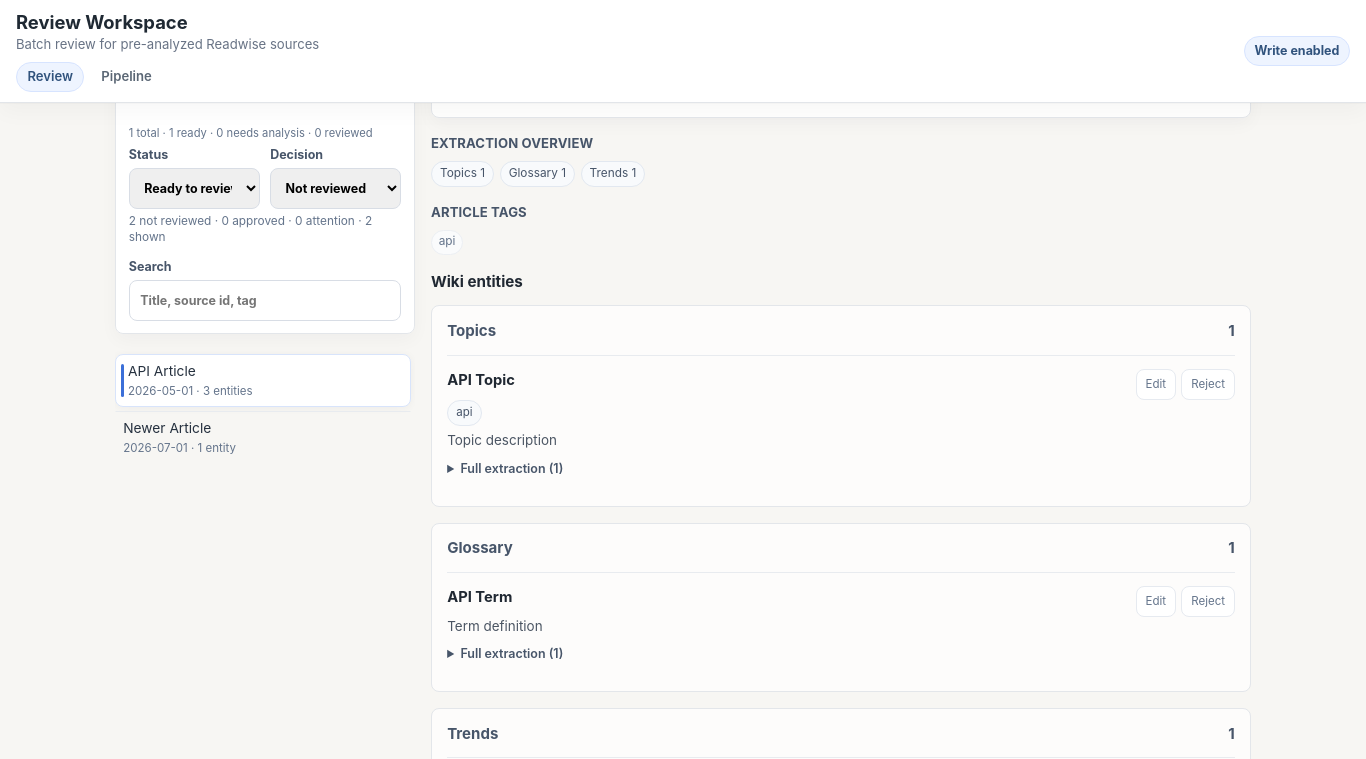
Test case: App › opens one entity editor and cancels without saving
(page scrolled)
Click the button with aria-label "Edit API Topic".
click(1156, 384)  # box [1136,369,1176,400]
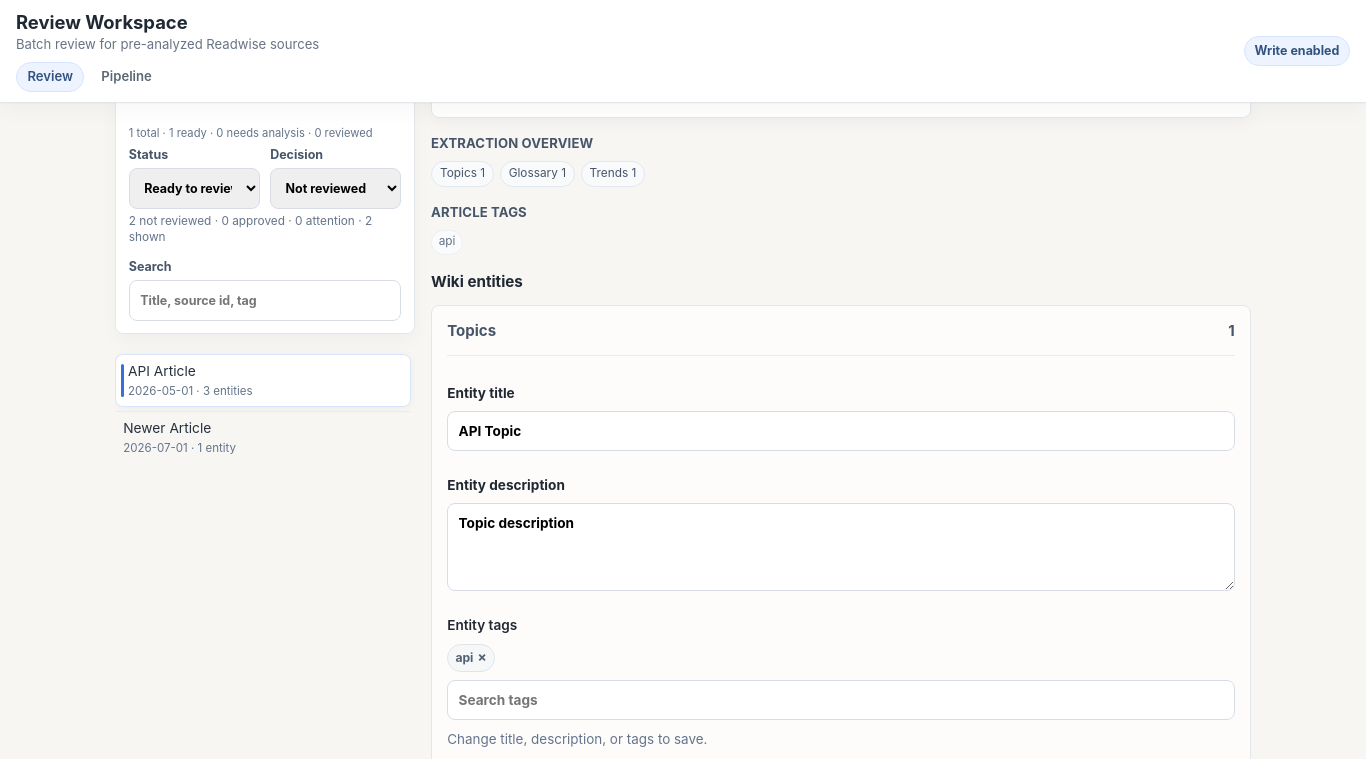
expect the field labelled "Entity title" holds "API Topic": met
expect the text box labelled "Entity description" holds "Topic description": met, box [447,504,1235,592]
expect the button named "Remove api" is shown: met, box [477,651,487,665]
Replace the text in the field labelled "Entity title" with "Draft title" at (841, 431), box [447,411,1235,451]
(page scrolled)
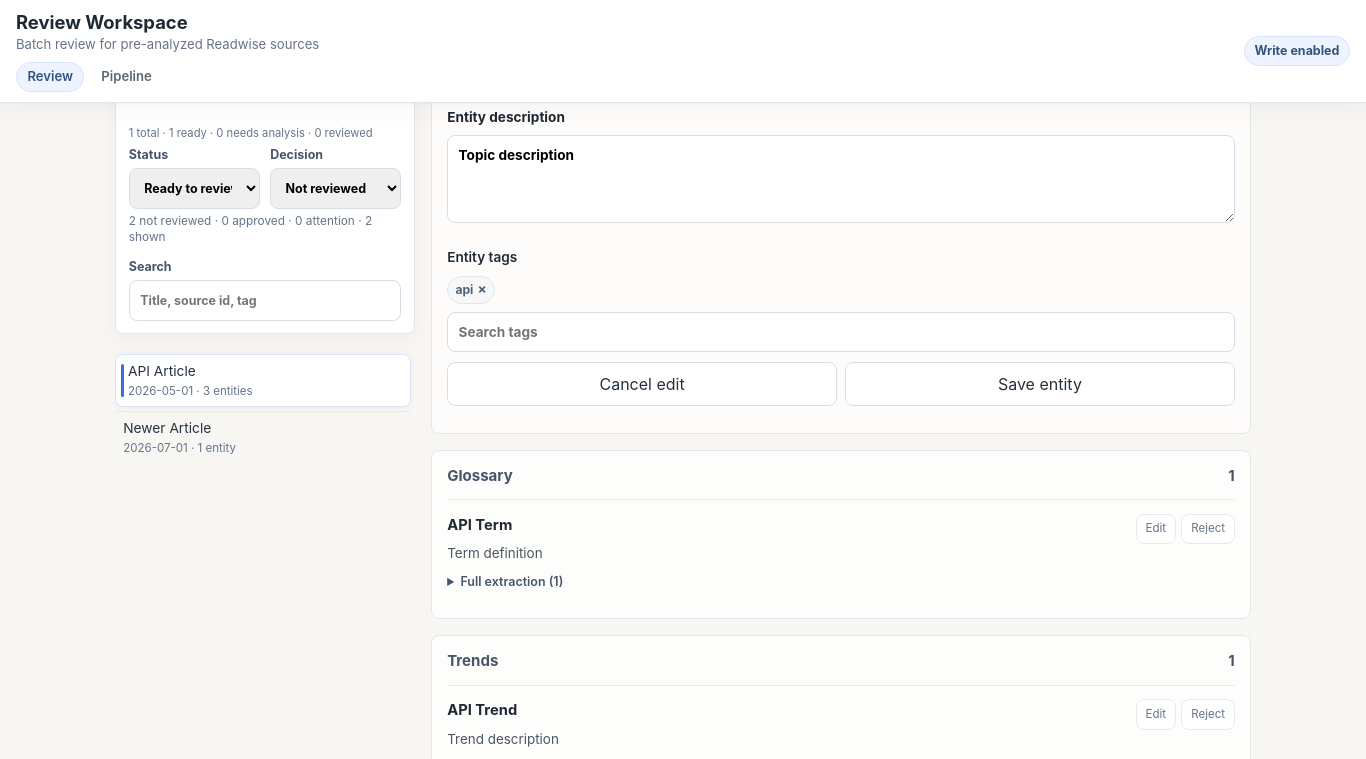
Click the button "Cancel edit".
click(642, 384)  # box [447,362,837,406]
(page scrolled)
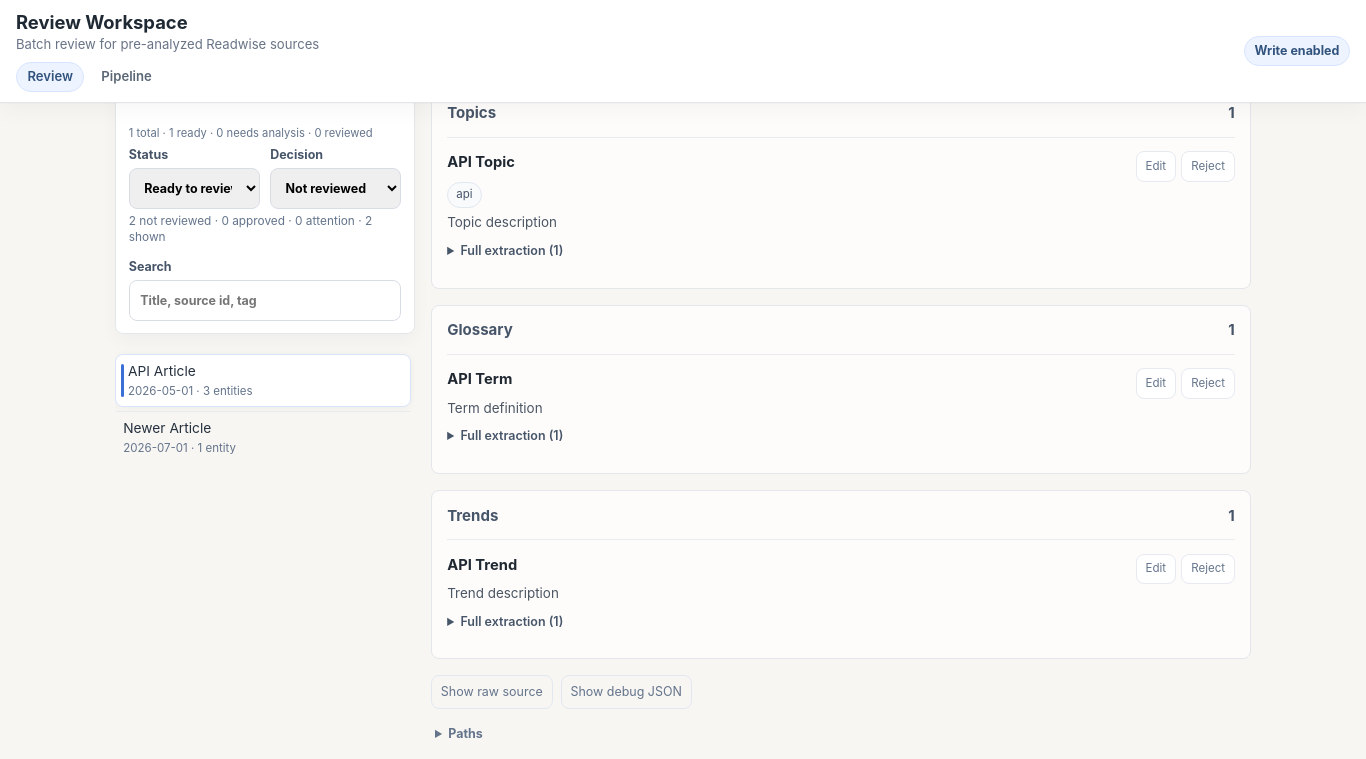
expect the field showing "Draft title" is not shown: met
expect the heading "API Topic" is shown: met, box [447,151,515,173]
